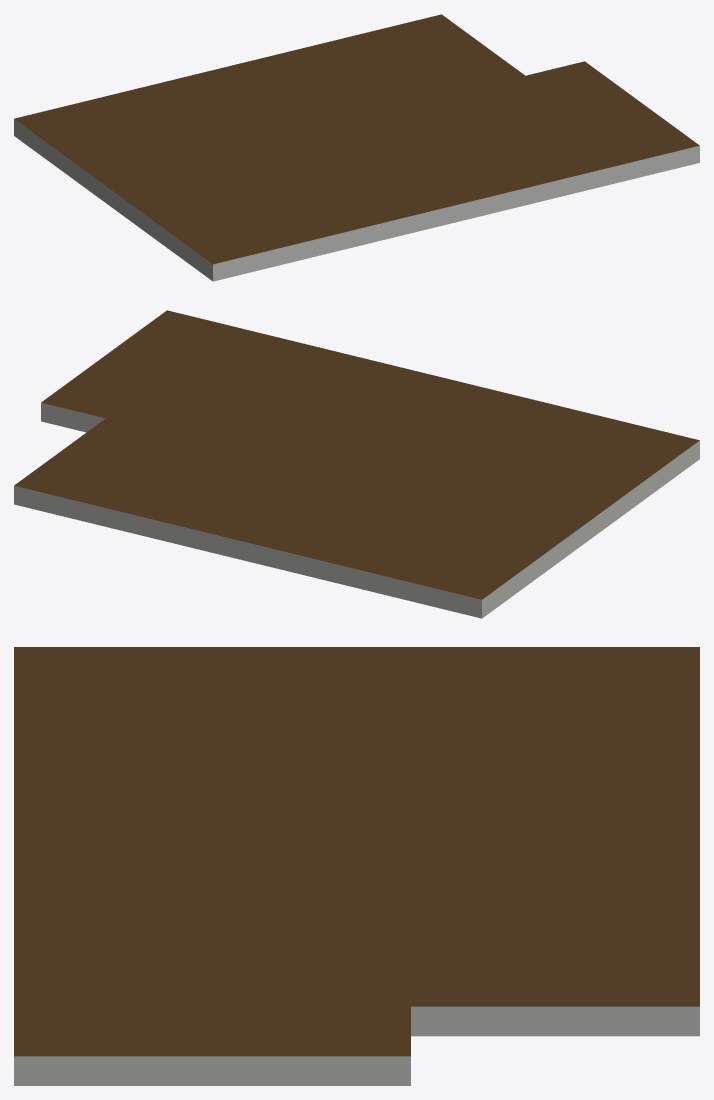
File: slab2.FBX
The picture shows the model from 3 angles, top to bottom: view 1: azimuth 30°, elevation 25°; view 2: azimuth 150°, elevation 25°; view 3: azimuth 270°, elevation 25°; orthographic projection. The views are drawn at different scales.
Visible parts, largest first — view 1: 121:1:8; view 2: 121:1:8; view 3: 121:1:8.
Boxes of the visible parts, x1=… form: 121:1:8: x1=14, y1=14, x2=699, y2=281; 121:1:8: x1=14, y1=310, x2=699, y2=618; 121:1:8: x1=14, y1=647, x2=699, y2=1085.
Bounding box in the file's own units: 175 × 5.91 × 124.
